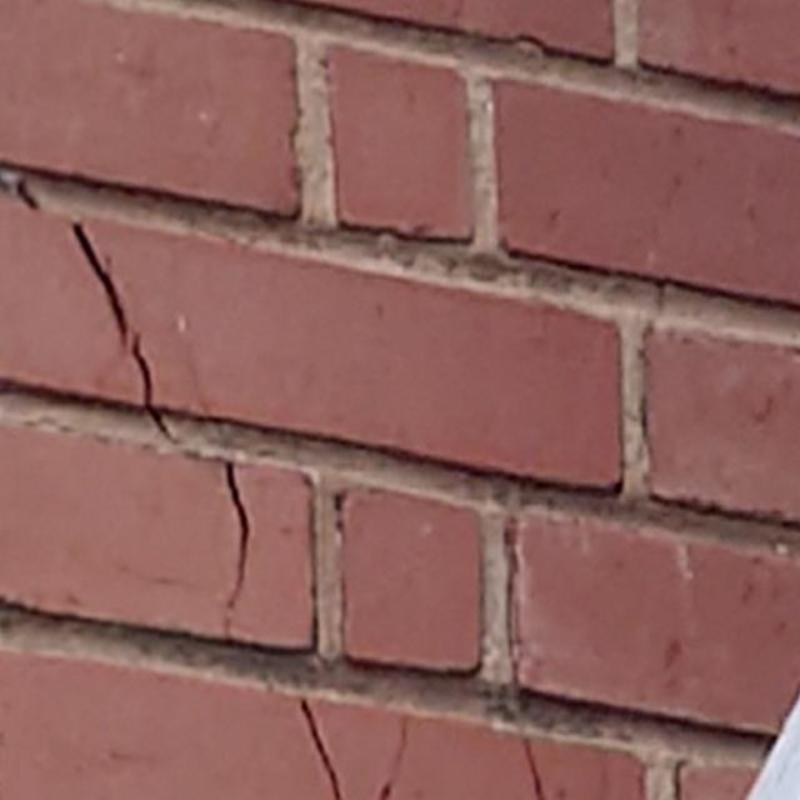pothole: (74, 222, 172, 438), (300, 698, 344, 799), (225, 461, 250, 637), (0, 171, 39, 209), (525, 742, 542, 799), (394, 725, 405, 762), (377, 772, 391, 800)
